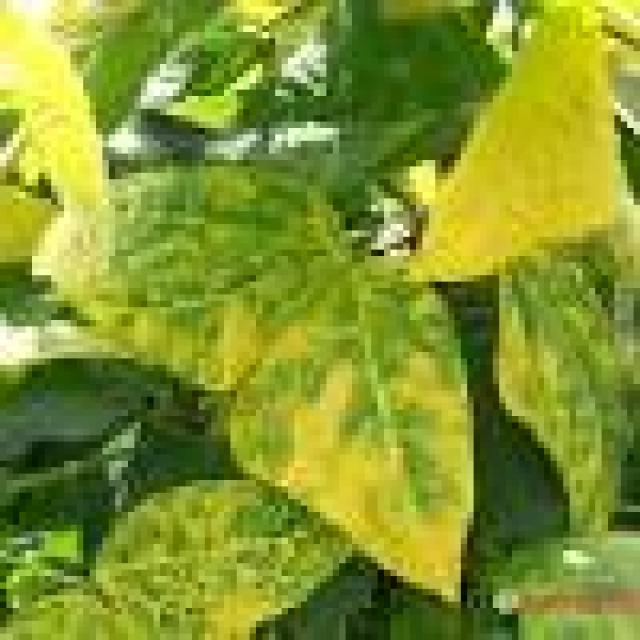virus_kuning: (242, 266, 480, 619), (435, 13, 640, 243)
